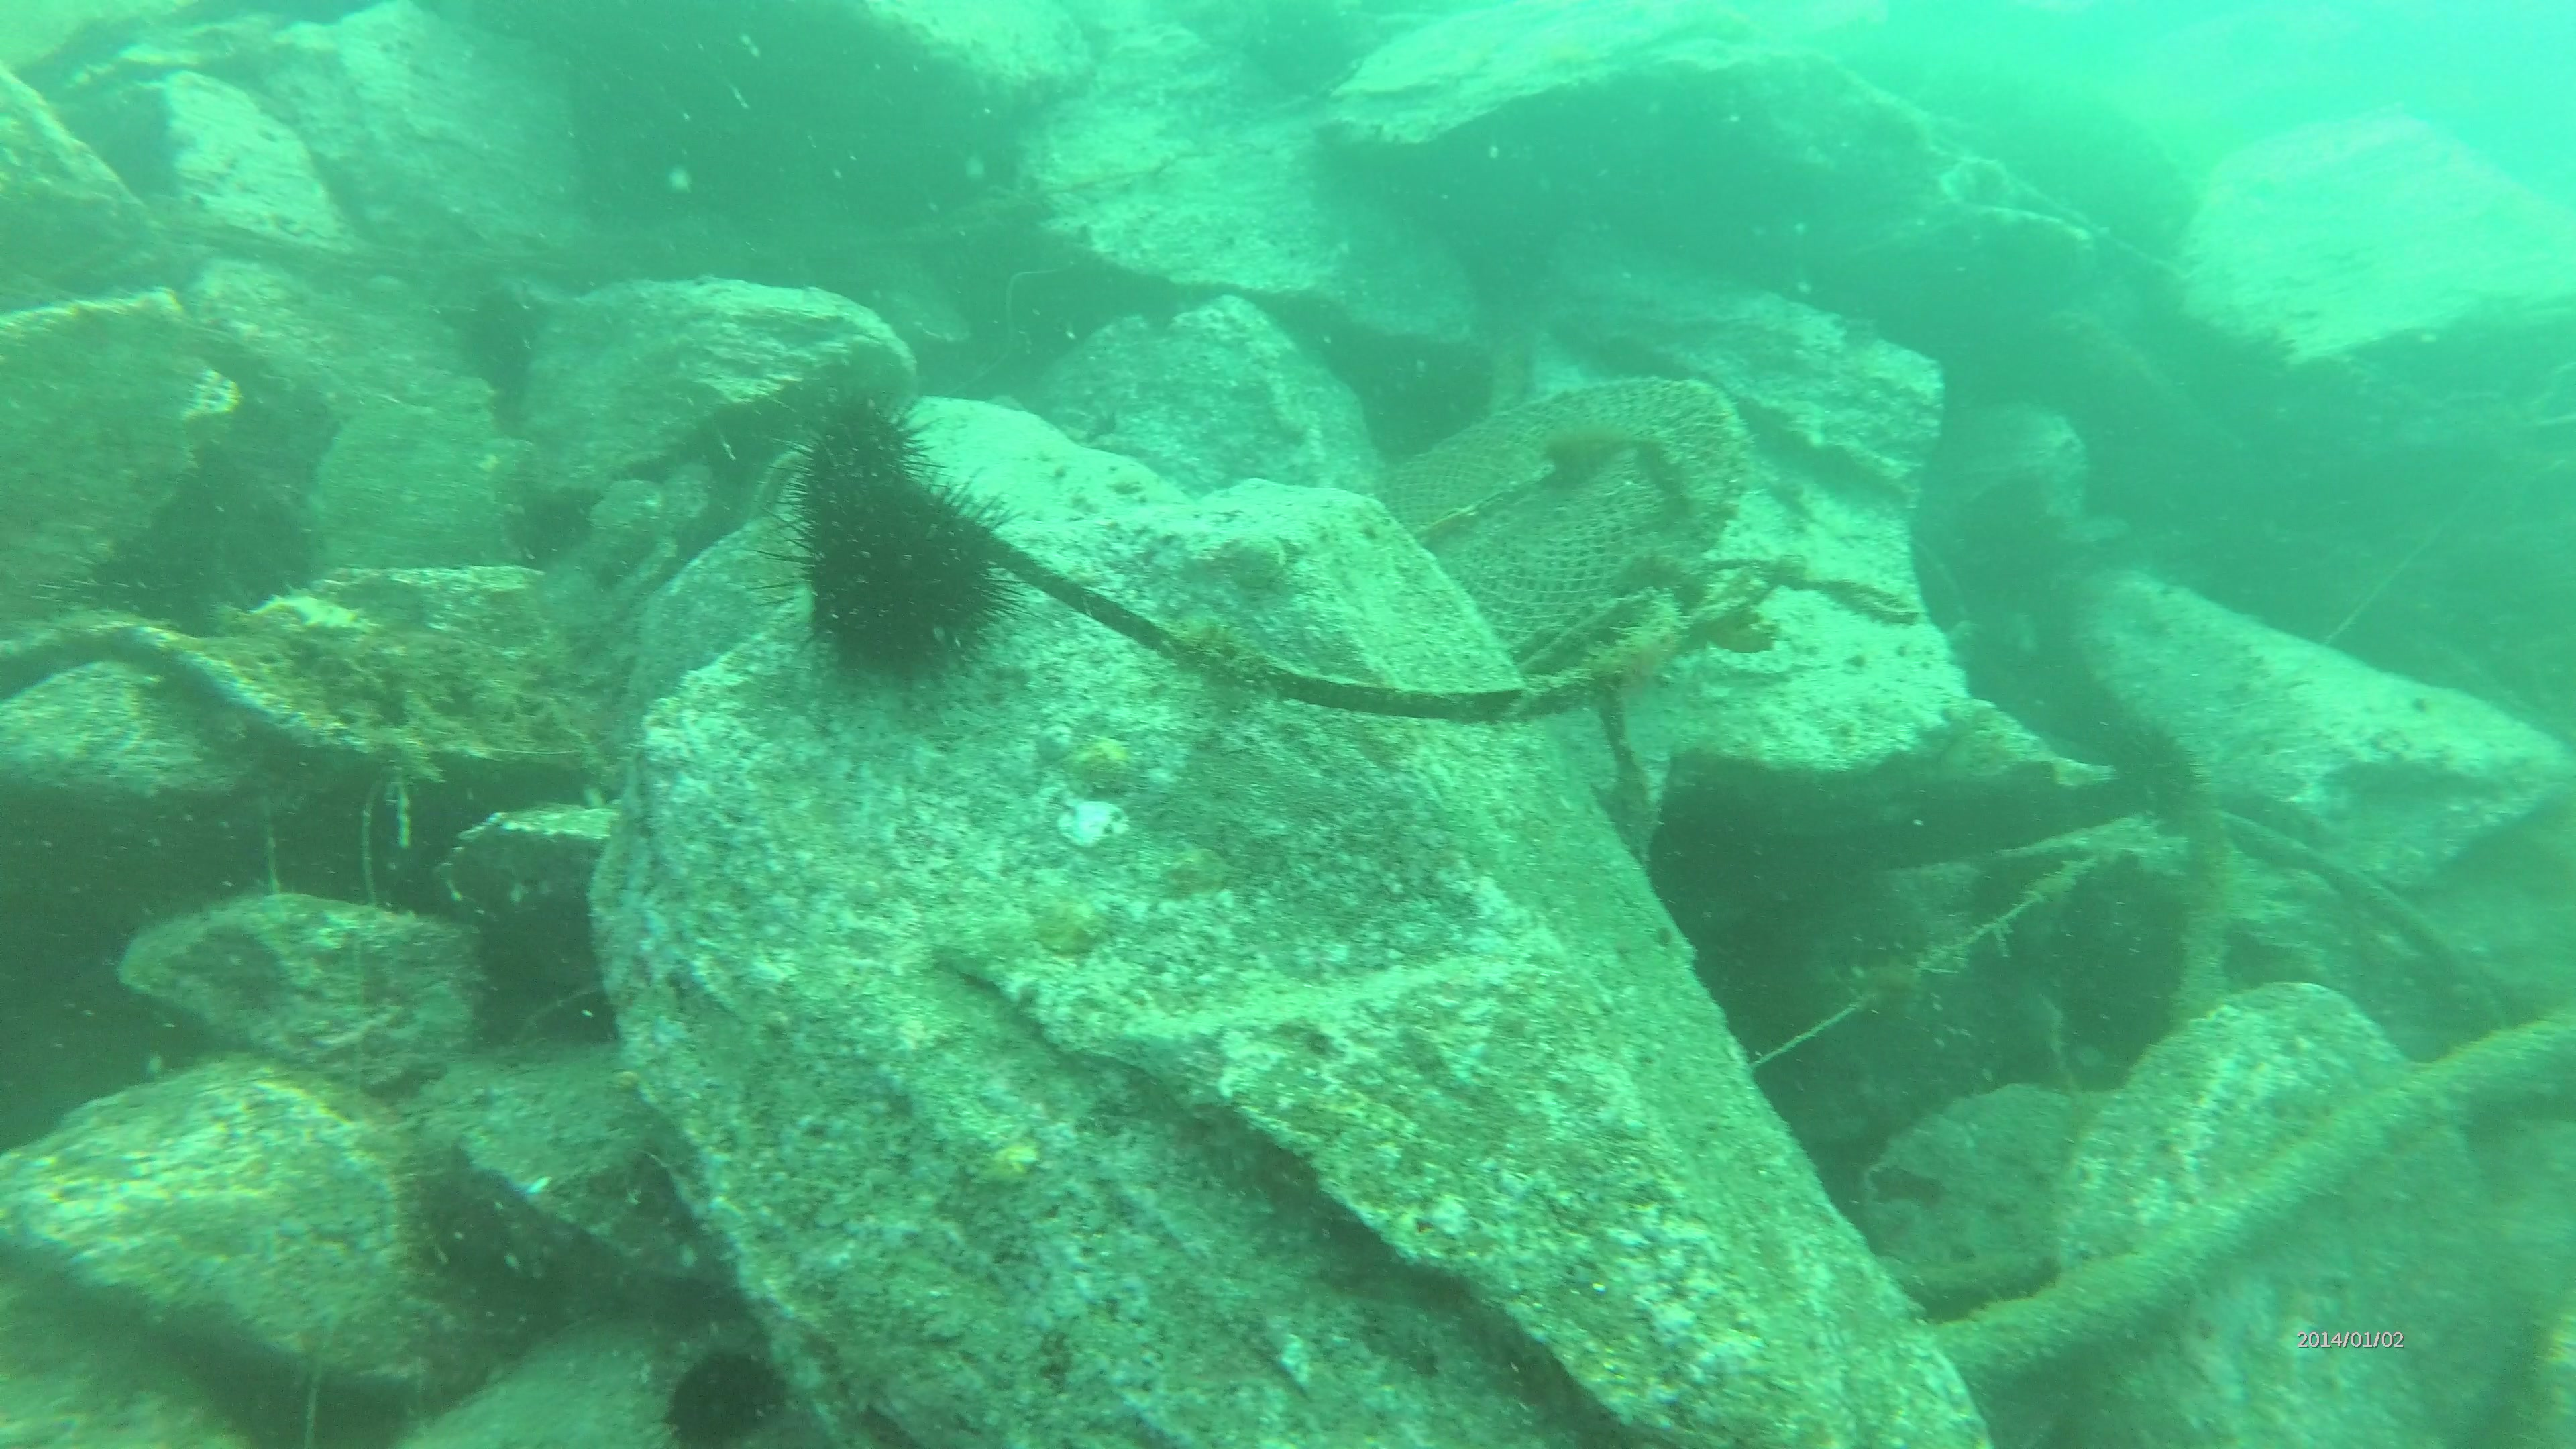echinus: (761, 483, 1039, 692), (398, 1169, 547, 1322), (777, 389, 947, 517), (639, 1359, 796, 1445)
holothurian: (1585, 600, 1679, 688)
